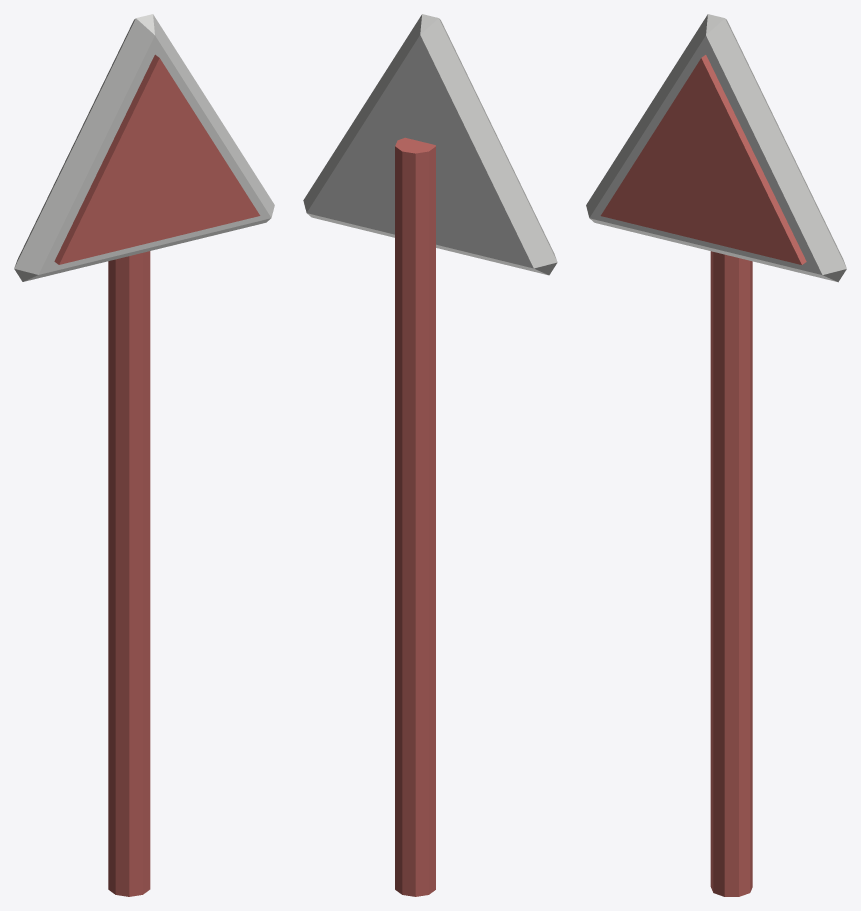
Rendered from TrafficSign2.glb.
The picture shows the model from 3 angles, left to right: view 1: azimuth 30°, elevation 25°; view 2: azimuth 150°, elevation 25°; view 3: azimuth 330°, elevation 25°; orthographic projection. The views are drawn at different scales.
Visible parts, largest first — view 1: TrafficSign2.obj; view 2: TrafficSign2.obj; view 3: TrafficSign2.obj.
Part boxes in pixels (box(x1,y1,x2,y2)): TrafficSign2.obj: box(14, 14, 274, 896); TrafficSign2.obj: box(303, 14, 557, 896); TrafficSign2.obj: box(586, 14, 846, 896).
Size of the model in its own units: 0.4591 by 1.49 by 0.125.
